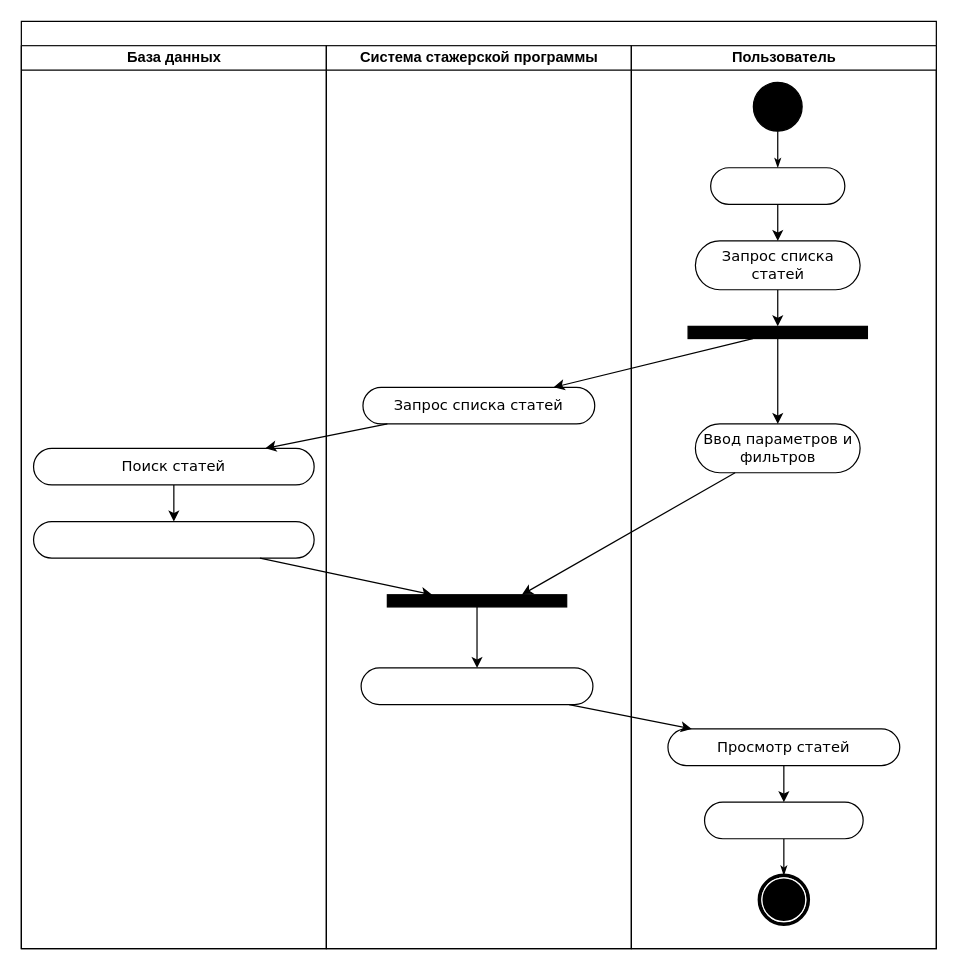
This 958x970 diagram has some shape labels left out. The shapes that lost their labels are listed below. From the top down, each one's centre as x and y in pixels, then its label:
At (x=777, y=185): "Вход в систему".
At (x=173, y=539): "Возврат списка статей".
At (x=476, y=686): "Отображение статьи".
At (x=783, y=820): "Выход из системы".
